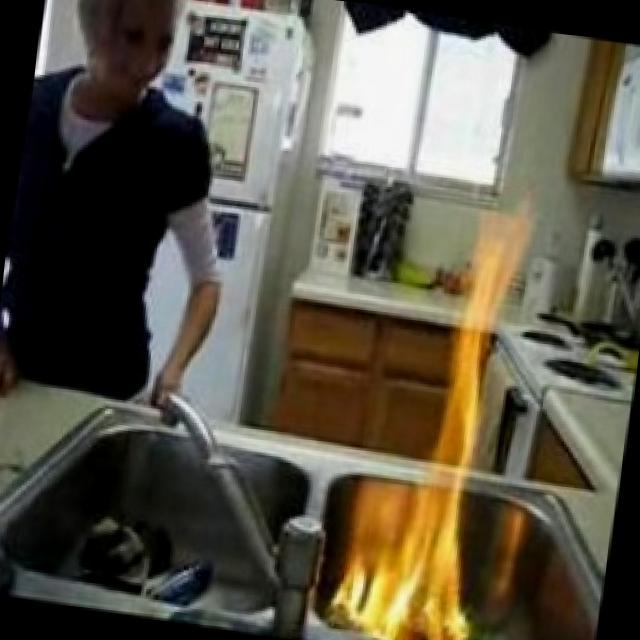fire: (317, 191, 550, 640)
